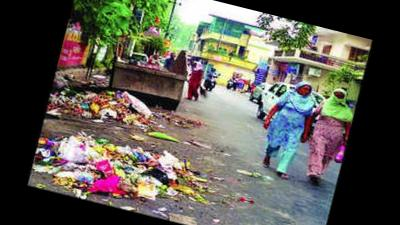trash: (48, 89, 149, 124), (122, 91, 152, 118), (158, 150, 182, 179), (96, 159, 114, 176), (86, 146, 103, 162), (100, 108, 117, 119), (117, 145, 133, 156), (166, 112, 180, 124), (122, 113, 136, 124), (108, 100, 117, 105)
